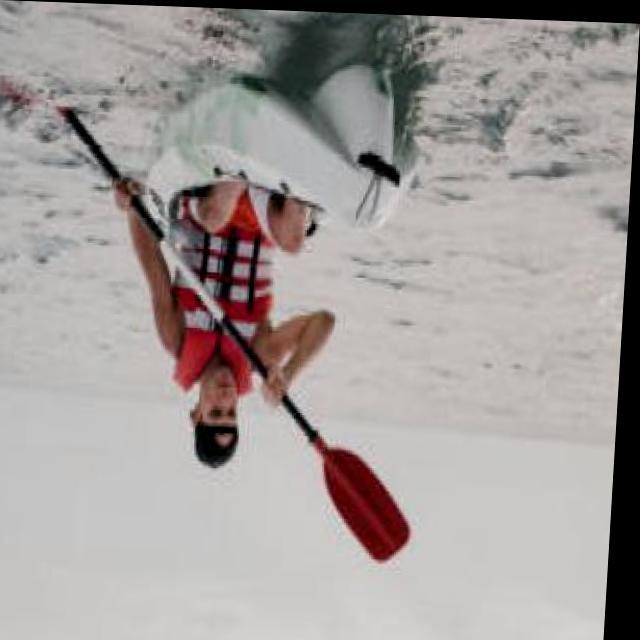kayak: (147, 66, 410, 226)
